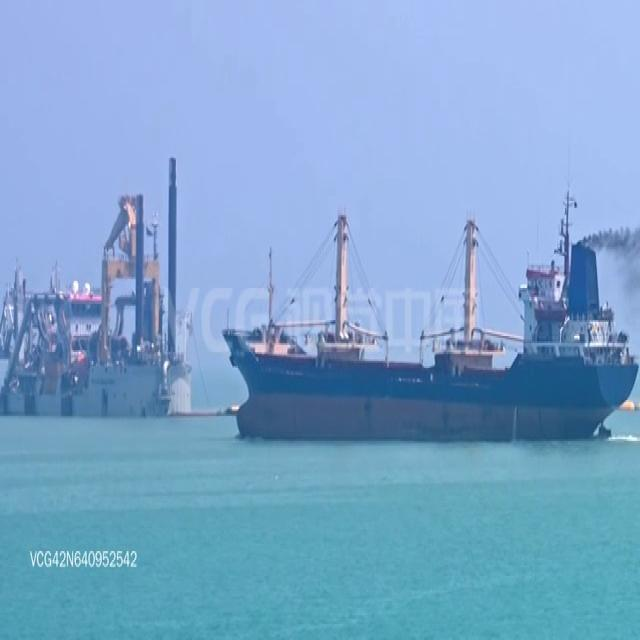cargoship: (223, 196, 639, 440), (1, 148, 192, 414)
